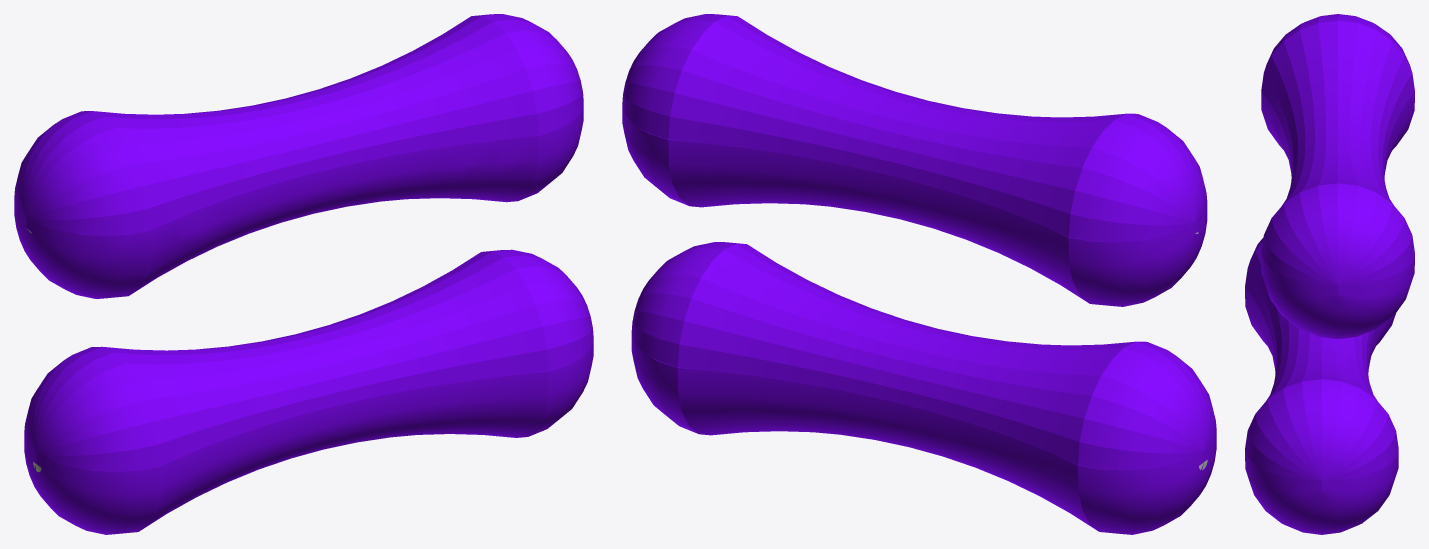
The model's file is Pi_2_entero.glb.
3 views of the same model, side by side, from view 1: azimuth 30°, elevation 25°; view 2: azimuth 150°, elevation 25°; view 3: azimuth 270°, elevation 25° (orthographic). The views are drawn at different scales.
Visible parts, largest first — view 1: root; view 2: root; view 3: root.
Boxes of the visible parts, bbox=[...] form: root: bbox=[14, 14, 593, 534]; root: bbox=[622, 14, 1216, 534]; root: bbox=[1245, 14, 1414, 534].
Size of the model in its own units: 0.0701 by 0.0495 by 0.0221.
